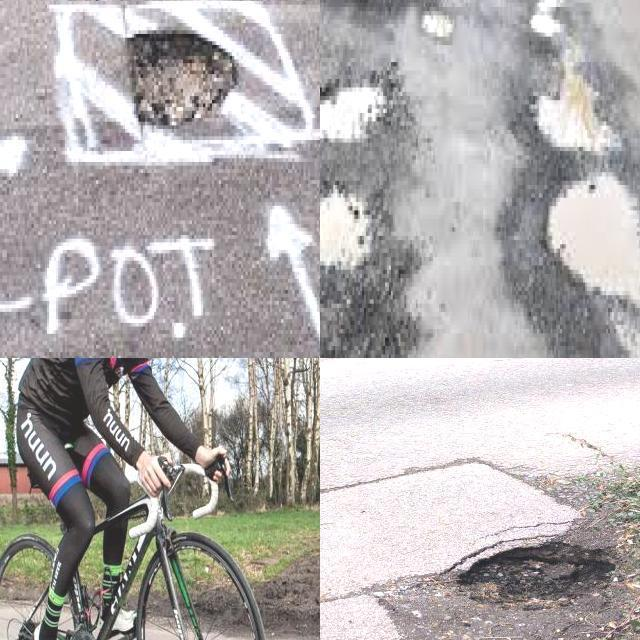Pothole: (444, 534, 624, 610), (127, 34, 241, 133), (548, 177, 640, 299), (539, 66, 597, 151), (531, 0, 562, 49)
